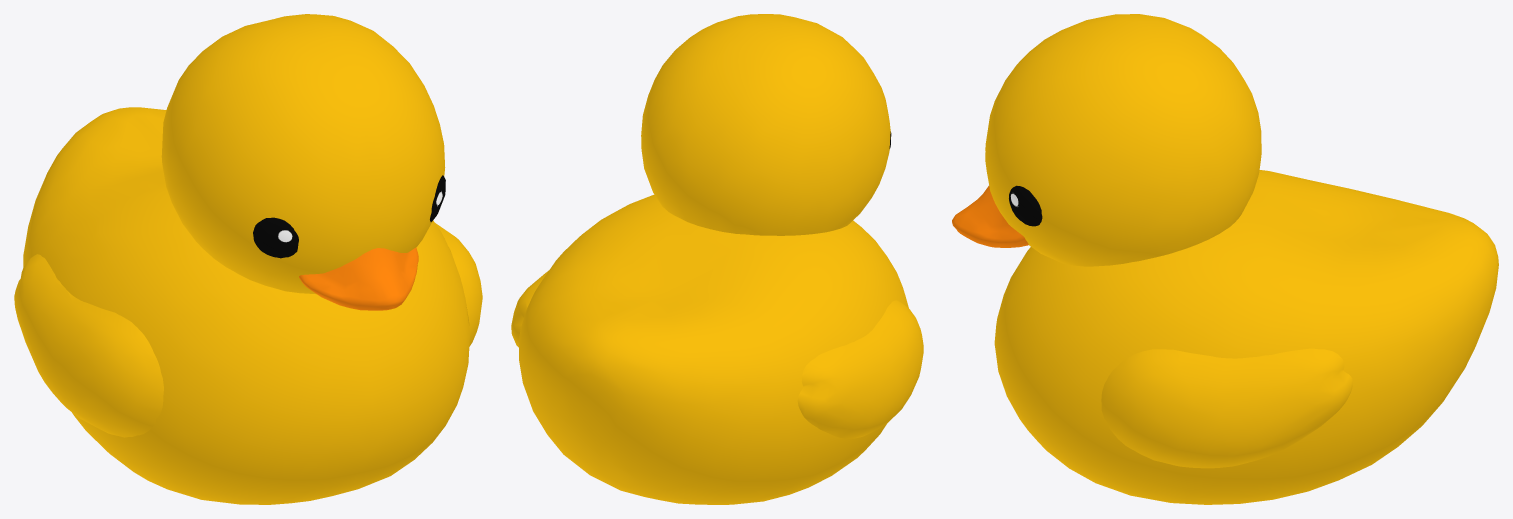
The model's file is duck.glb.
3 renders of one model, left to right at view 1: azimuth 30°, elevation 25°; view 2: azimuth 150°, elevation 25°; view 3: azimuth 270°, elevation 25°, orthographic. The views are drawn at different scales.
Parts seen in each view (by area): view 1: dc7ddb2b-cabc-415c-ba85-aa106dcb4156; view 2: dc7ddb2b-cabc-415c-ba85-aa106dcb4156; view 3: dc7ddb2b-cabc-415c-ba85-aa106dcb4156.
Part boxes in pixels (x1=…): dc7ddb2b-cabc-415c-ba85-aa106dcb4156: x1=14, y1=14, x2=482, y2=504; dc7ddb2b-cabc-415c-ba85-aa106dcb4156: x1=511, y1=14, x2=923, y2=504; dc7ddb2b-cabc-415c-ba85-aa106dcb4156: x1=952, y1=14, x2=1498, y2=504.
Size of the model in its own units: 1.59 by 1.77 by 1.99.
Materials: 3 (1 with a texture image).
